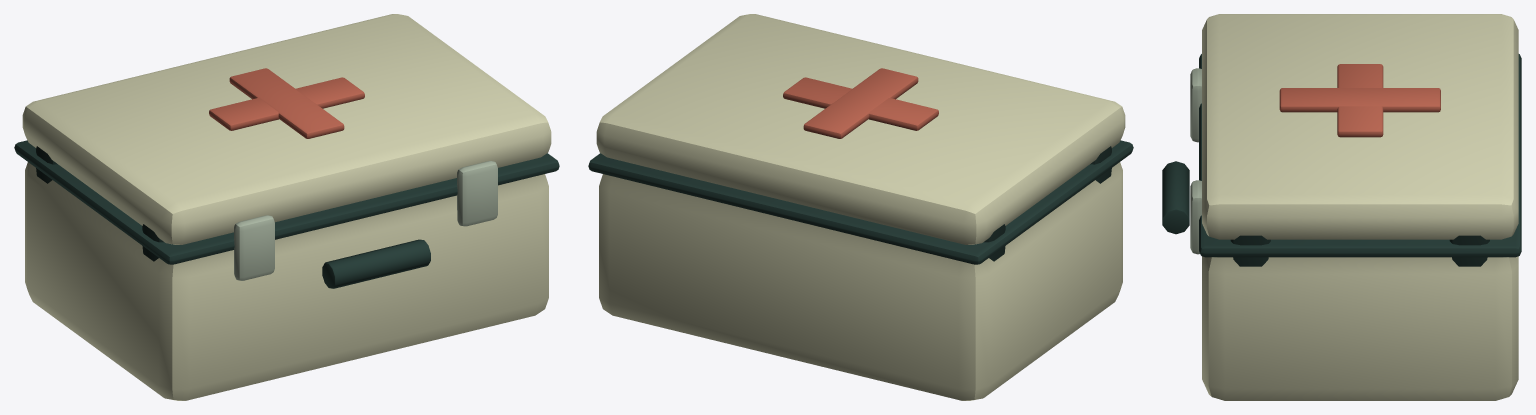
Rendered from kf-medical.glb.
3 views of the same model, side by side, from view 1: azimuth 30°, elevation 25°; view 2: azimuth 150°, elevation 25°; view 3: azimuth 270°, elevation 25° (orthographic). The views are drawn at different scales.
Parts seen in each view (by area): view 1: SupplyCase Case polymer, SupplyCase Gasket, SupplyCase Medical mark, SupplyCase Latches; view 2: SupplyCase Case polymer, SupplyCase Gasket, SupplyCase Medical mark; view 3: SupplyCase Case polymer, SupplyCase Gasket, SupplyCase Medical mark, SupplyCase Latches.
Boxes of the visible parts, x1,y1,x2,y2 form: SupplyCase Case polymer: (22,14,551,400); SupplyCase Gasket: (14,140,559,288); SupplyCase Medical mark: (209,68,364,138); SupplyCase Latches: (234,161,497,280); SupplyCase Case polymer: (596,14,1125,400); SupplyCase Gasket: (588,140,1133,264); SupplyCase Medical mark: (783,68,938,138); SupplyCase Case polymer: (1202,14,1518,400); SupplyCase Gasket: (1162,54,1521,266); SupplyCase Medical mark: (1279,64,1440,137); SupplyCase Latches: (1190,68,1201,254).
Size of the model in its own units: 0.81 by 0.414 by 0.6238.
